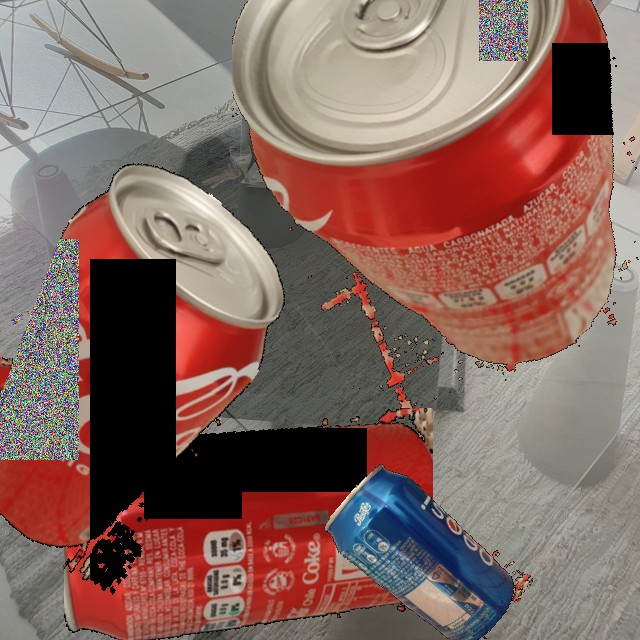coca cola: (0, 98, 392, 638), (232, 0, 640, 413), (64, 408, 433, 640), (0, 350, 88, 444)
pepsi: (317, 453, 536, 640)
